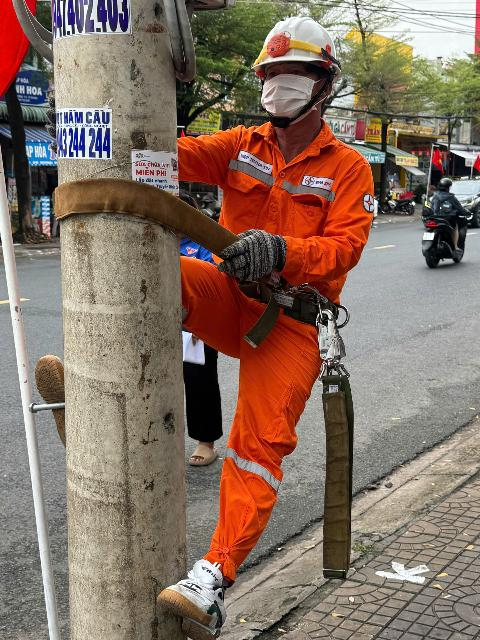gloves: (219, 227, 293, 282)
harness: (113, 204, 365, 326)
helmet: (235, 7, 361, 87)
shoes: (154, 549, 244, 636), (26, 351, 99, 444)
